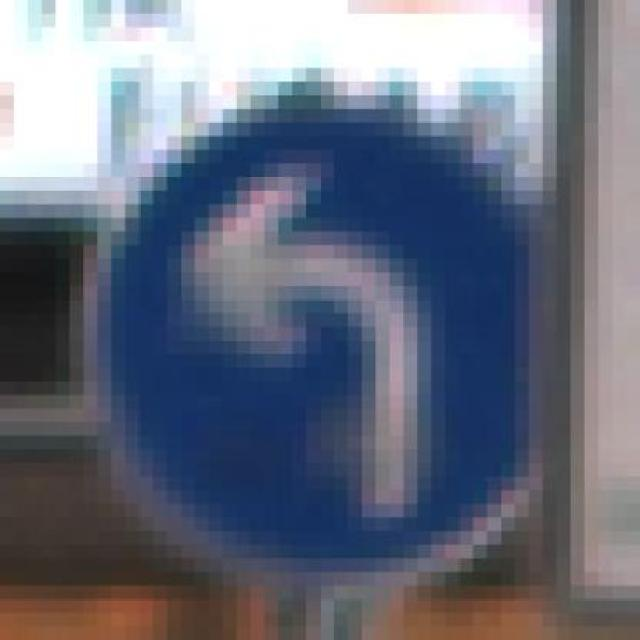Turn left ahead: (83, 68, 585, 600)
